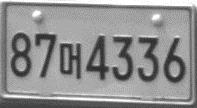3: (111, 34, 134, 81), (137, 36, 159, 82)
4: (84, 34, 110, 81)
6: (162, 36, 186, 84)
7: (32, 32, 57, 80)
8: (9, 31, 31, 78)
머: (57, 41, 82, 80)
